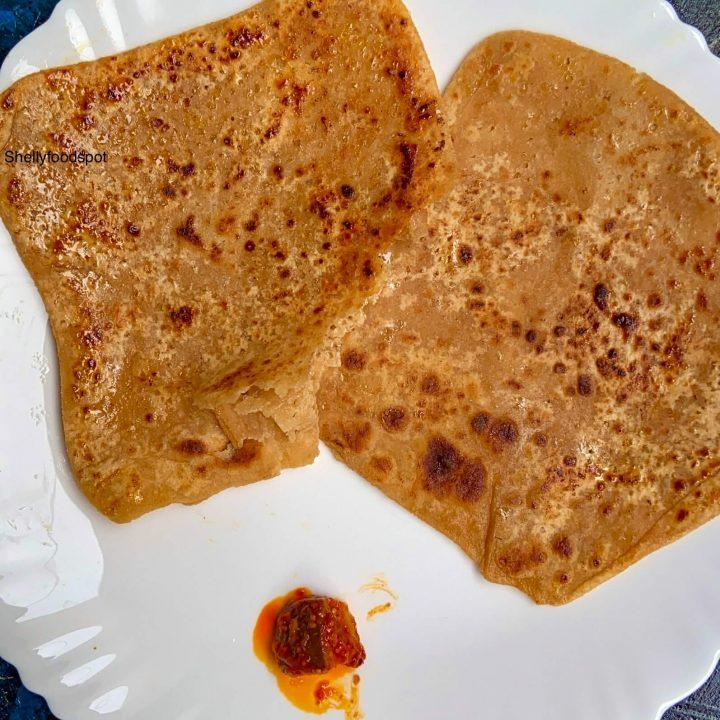paratha: (39, 79, 703, 532)
